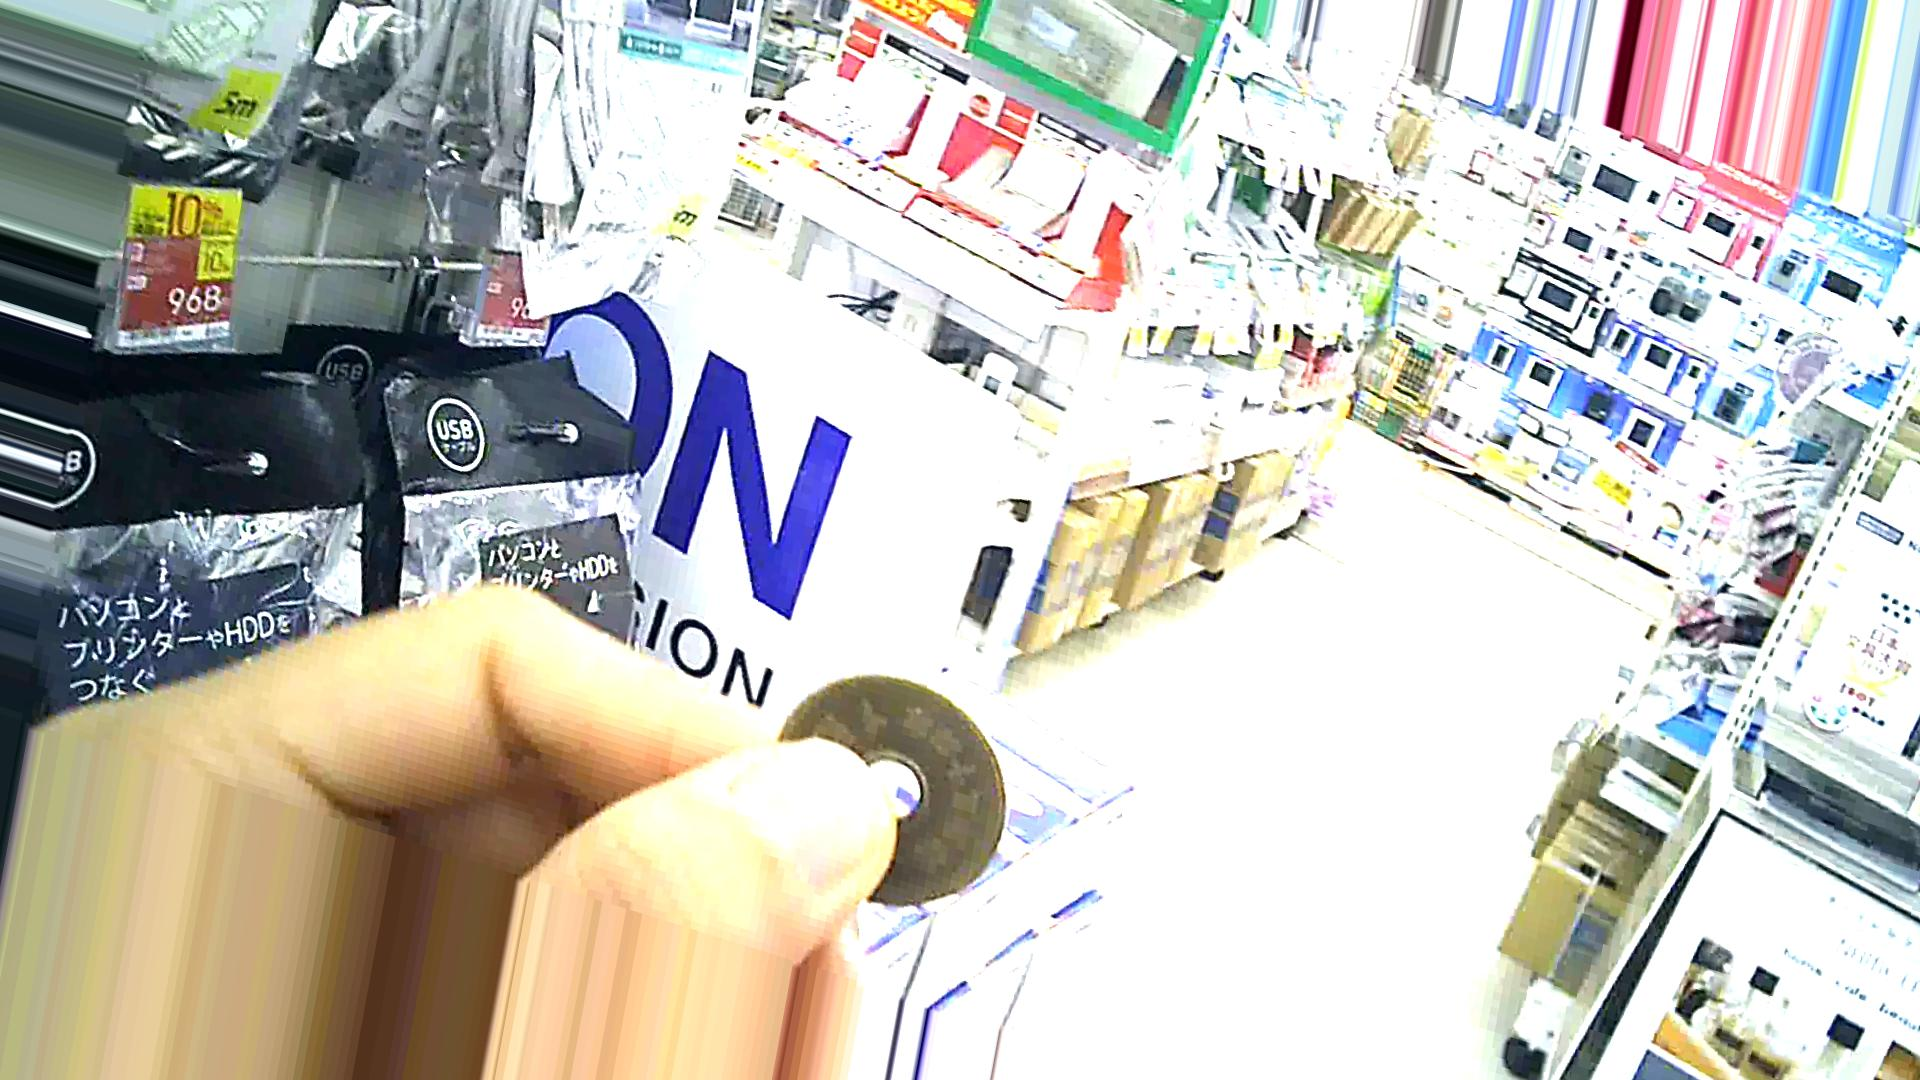5 Yen: (769, 669, 1013, 914)
